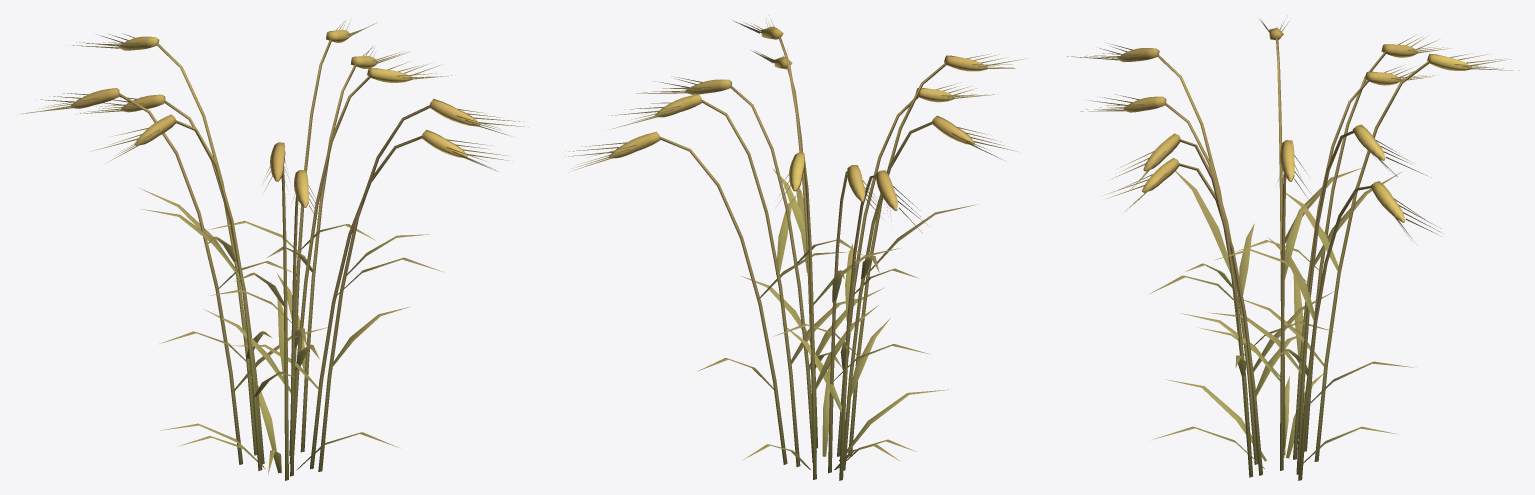
The model's file is crop_grain_s3.glb.
3 views of the same model, side by side, from view 1: azimuth 30°, elevation 25°; view 2: azimuth 150°, elevation 25°; view 3: azimuth 270°, elevation 25° (orthographic).
Visible parts, largest first — view 1: Crop_Grain_S3; view 2: Crop_Grain_S3; view 3: Crop_Grain_S3.
Part boxes in pixels (<box>): Crop_Grain_S3: <box>17,20,528,480</box>; Crop_Grain_S3: <box>565,18,1027,480</box>; Crop_Grain_S3: <box>1067,15,1518,480</box>.
Size of the model in its own units: 0.7368 by 0.6899 by 0.7458.
